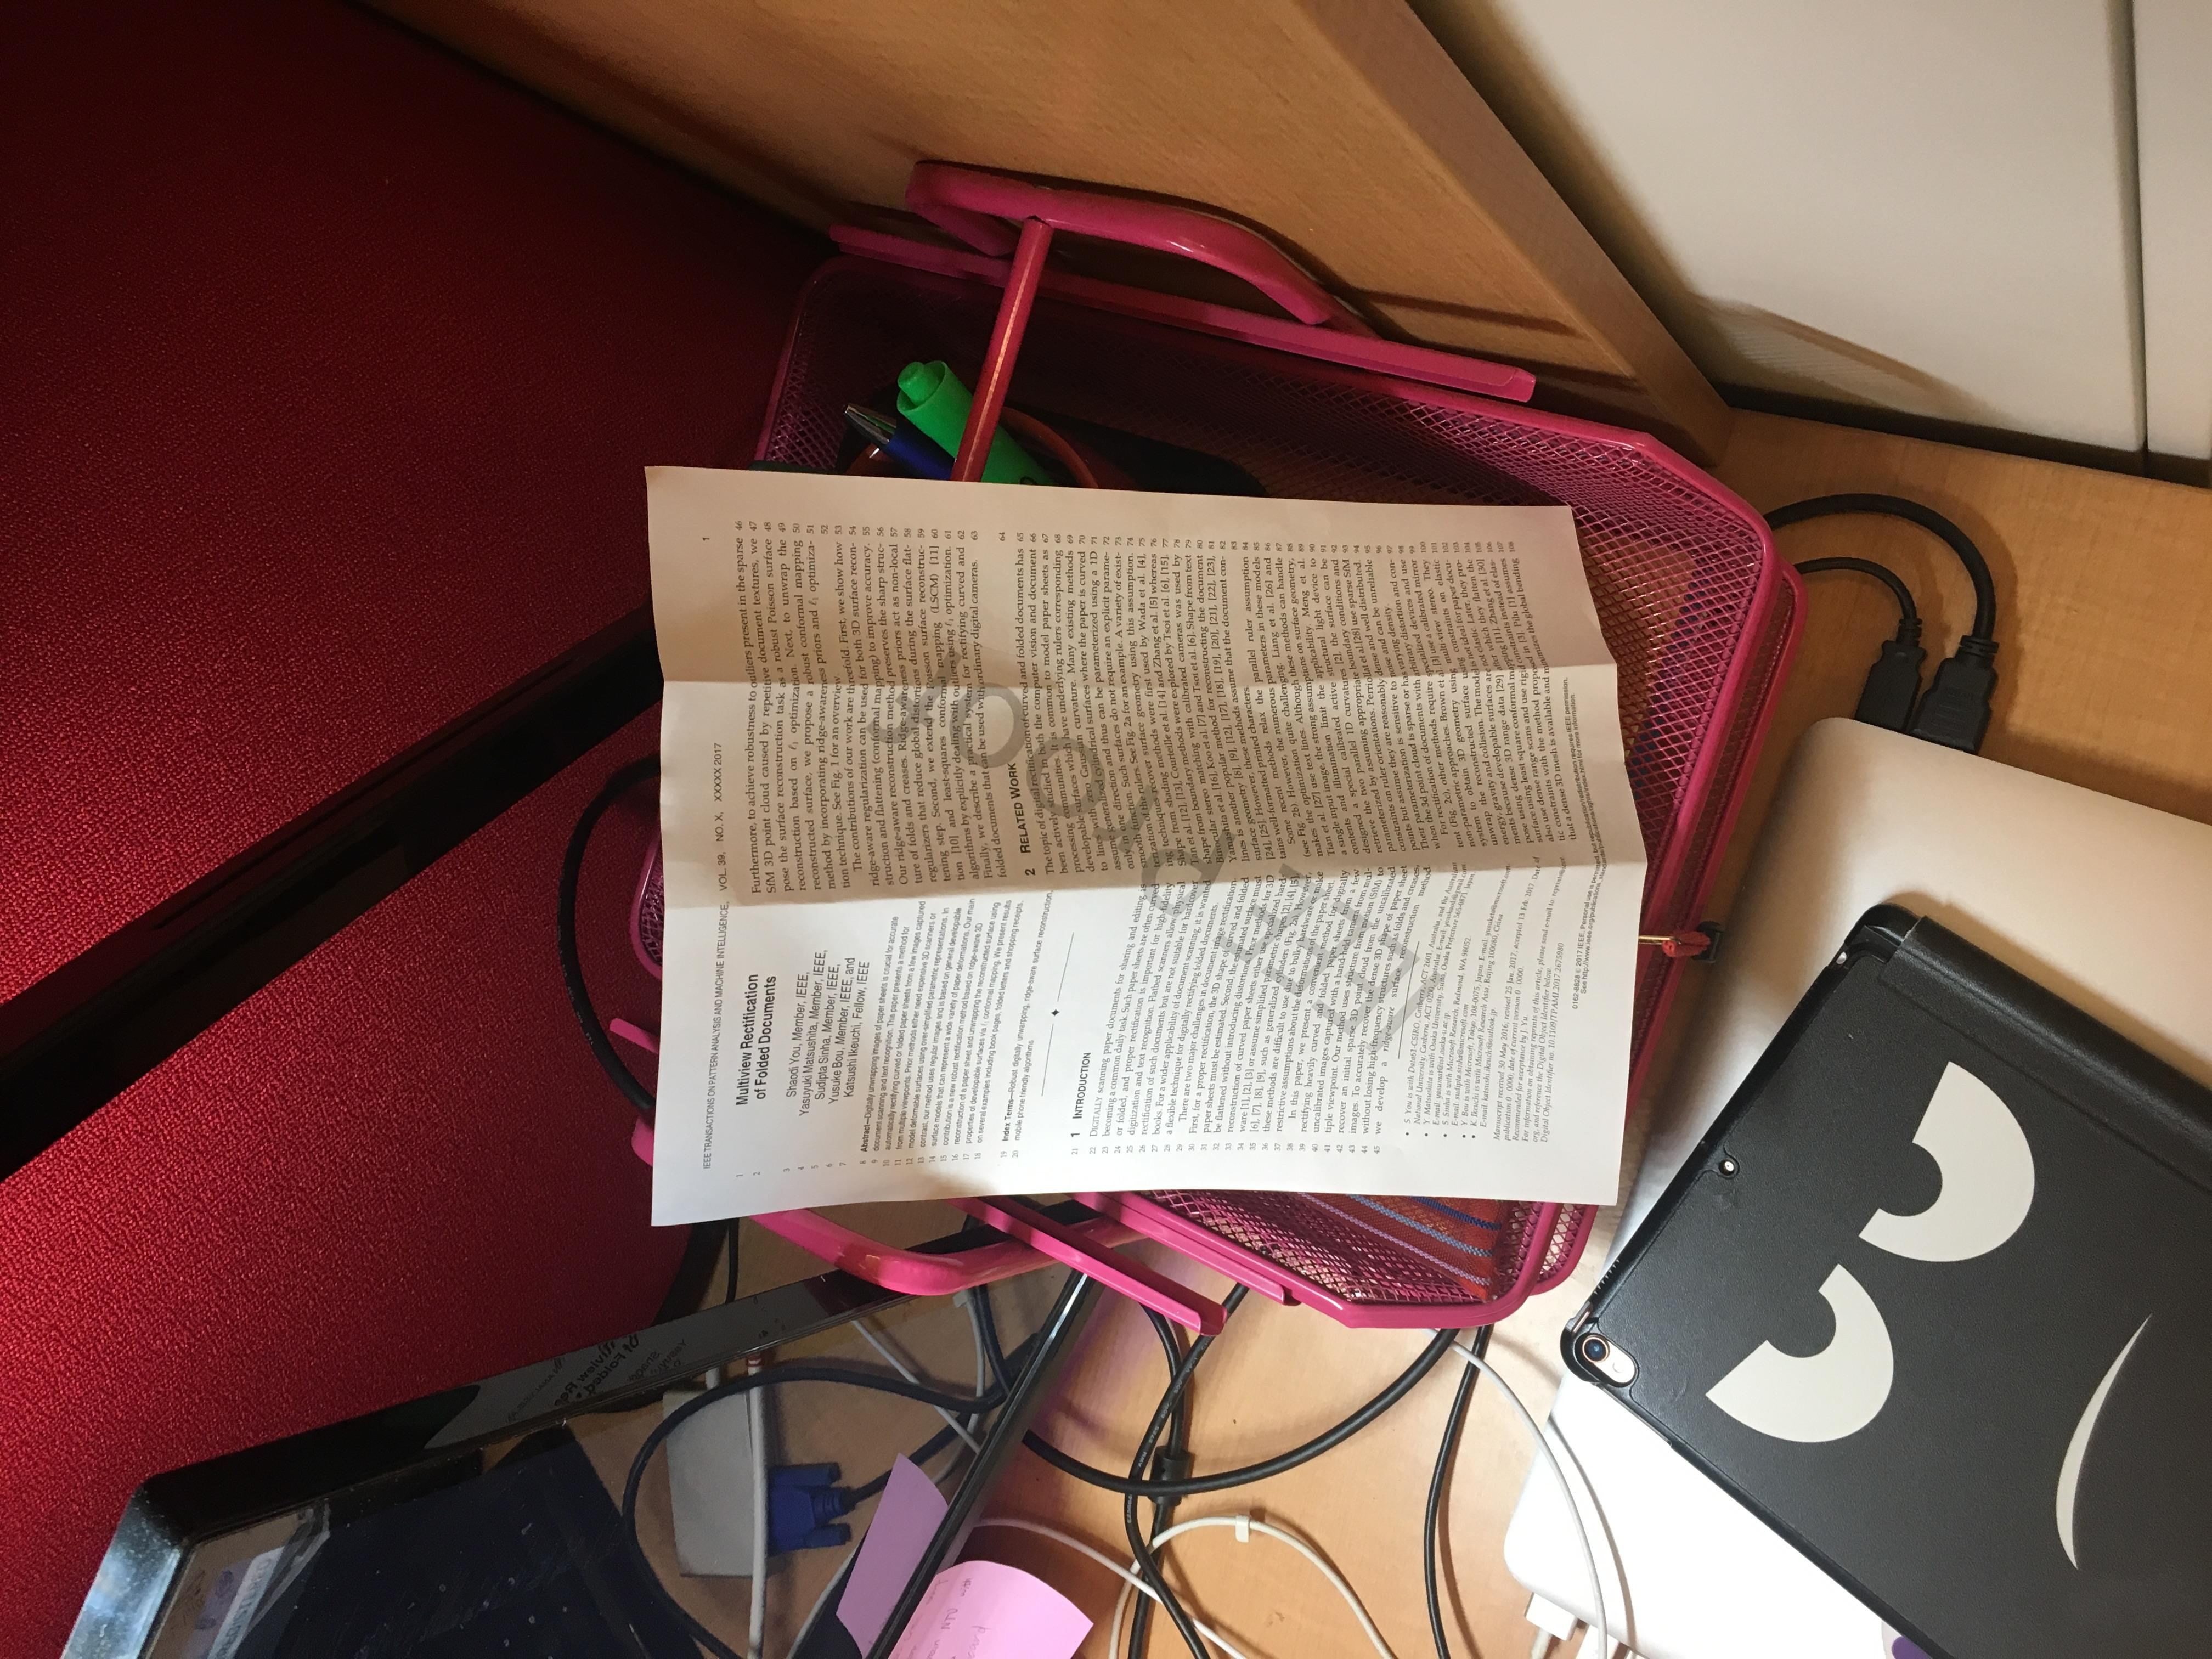paper: (340, 413, 1822, 1441)
